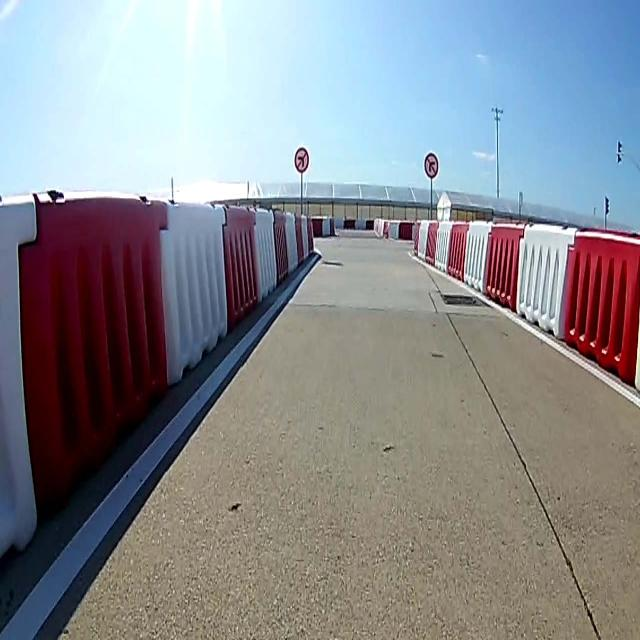sagadonulmez: (424, 151, 438, 180)
soladonulmez: (293, 145, 310, 176)
